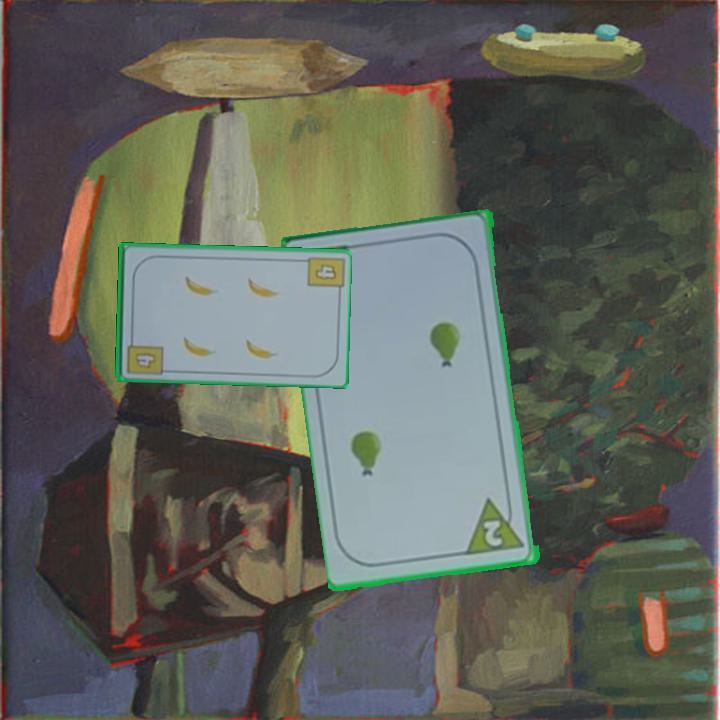2p: (480, 517, 507, 550)
4b: (123, 332, 165, 378), (312, 260, 340, 282)
